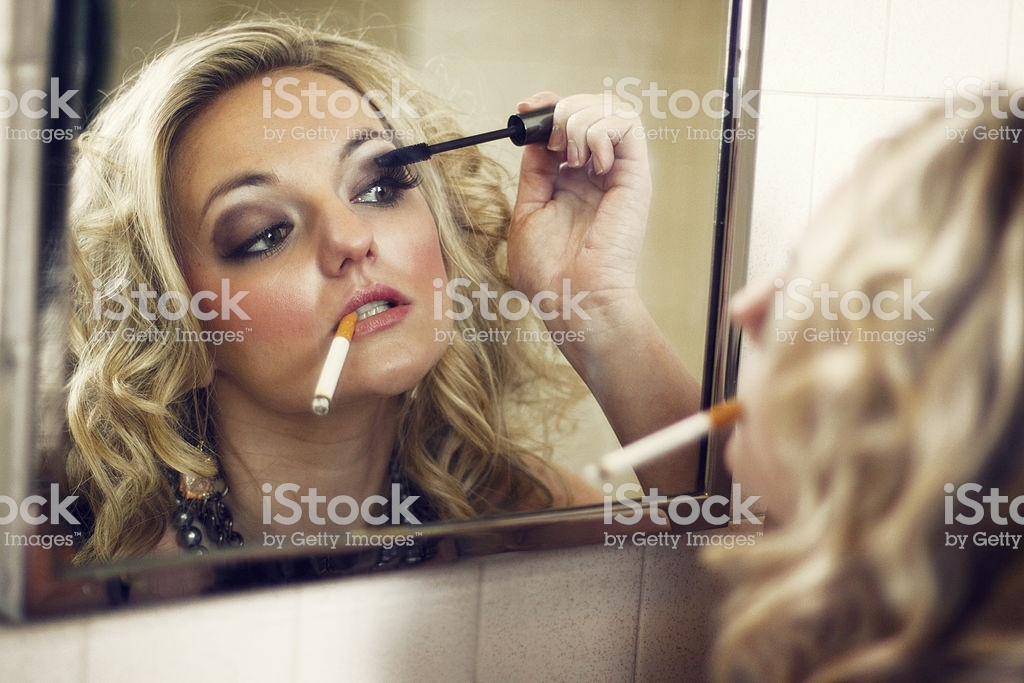sigaretta: (311, 305, 356, 423)
